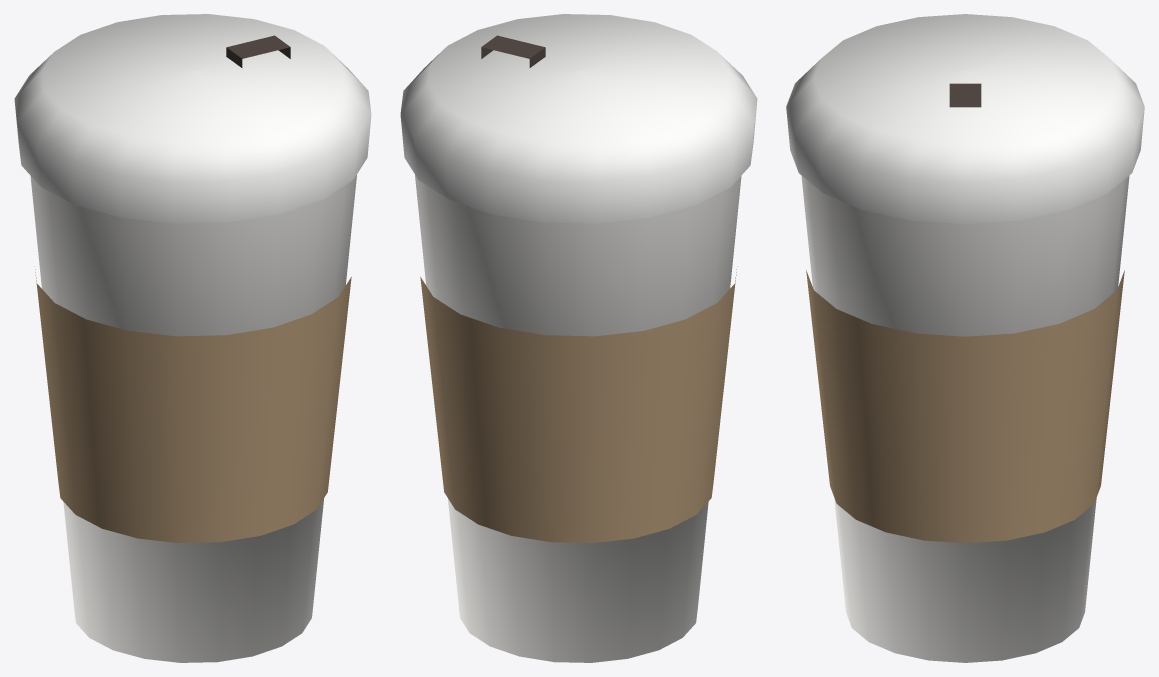
File: coffee_cup.glb
3 renders of one model, left to right at view 1: azimuth 30°, elevation 25°; view 2: azimuth 150°, elevation 25°; view 3: azimuth 270°, elevation 25°, orthographic.
Parts seen in each view (by area): view 1: coffee_cup; view 2: coffee_cup; view 3: coffee_cup.
Part boxes in pixels (x1,y1,x2,y2): coffee_cup: (14, 14, 371, 662); coffee_cup: (400, 14, 757, 662); coffee_cup: (786, 14, 1144, 662).
Bounding box in the file's own units: 0.09 × 0.152 × 0.09.
